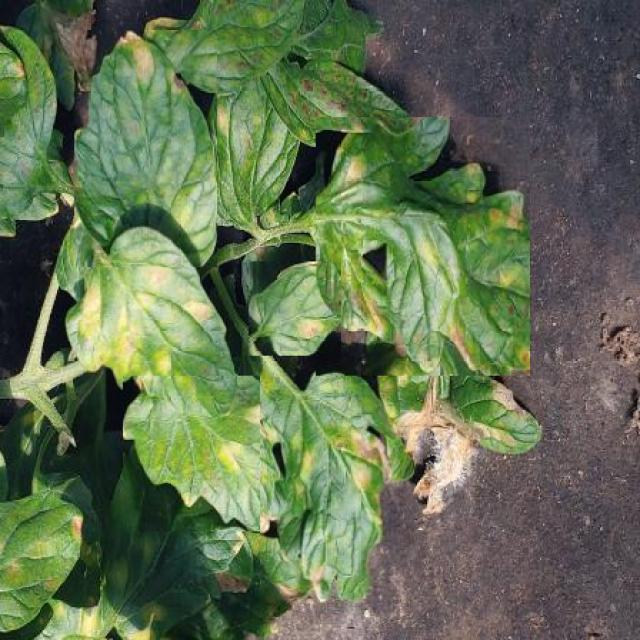Leaf Mold: (316, 117, 531, 376), (260, 363, 414, 603), (74, 31, 217, 268), (63, 226, 234, 424), (123, 376, 281, 531), (249, 261, 340, 356)
